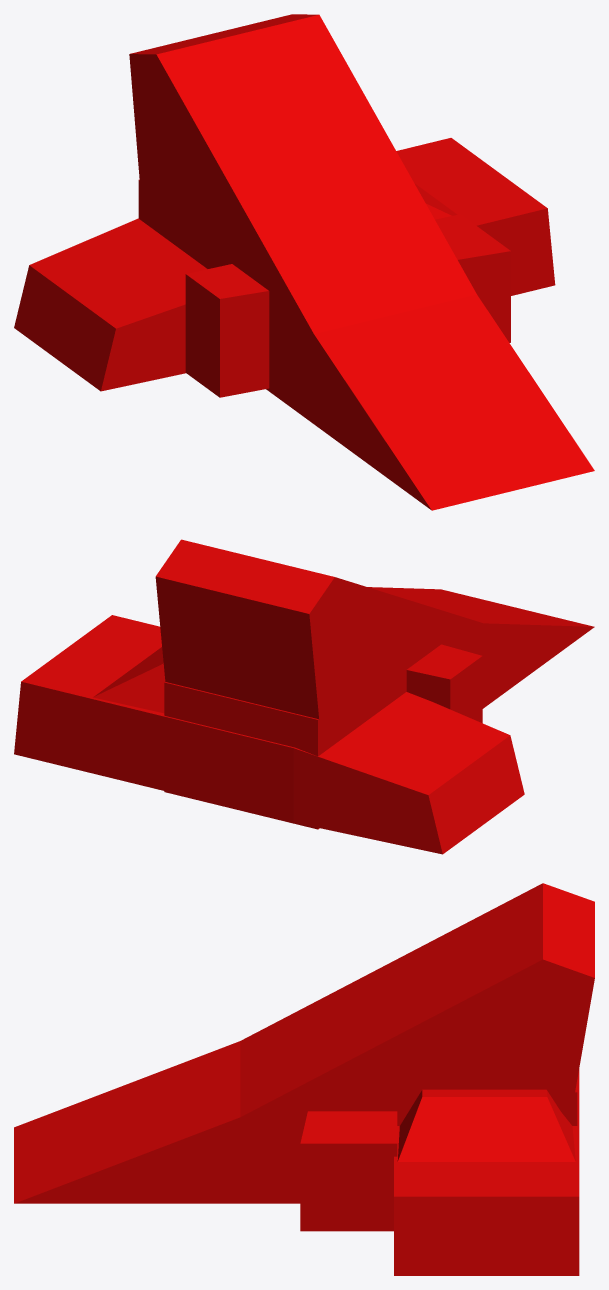
The model's file is SM_Prop_Ramp_01_Collision.fbx.
The picture shows the model from 3 angles, top to bottom: view 1: azimuth 30°, elevation 25°; view 2: azimuth 150°, elevation 25°; view 3: azimuth 270°, elevation 25°; orthographic projection. The views are drawn at different scales.
Visible parts, largest first — view 1: SM_Prop_Ramp_01_Collision; view 2: SM_Prop_Ramp_01_Collision; view 3: SM_Prop_Ramp_01_Collision.
Part boxes in pixels (x1,y1,x2,y2): SM_Prop_Ramp_01_Collision: [14, 14, 594, 510]; SM_Prop_Ramp_01_Collision: [14, 539, 594, 854]; SM_Prop_Ramp_01_Collision: [14, 883, 594, 1275].
Size of the model in its own units: 514 by 278 by 599.
